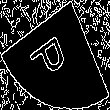P_NE: (31, 26, 79, 84)
